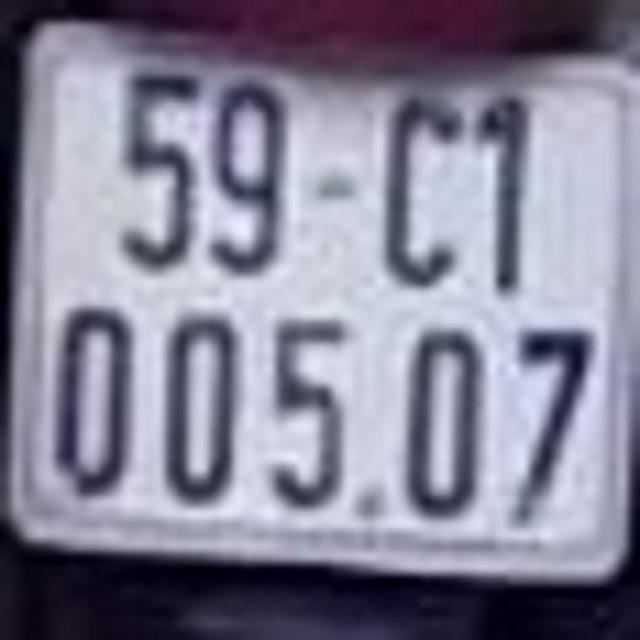0: (402, 320, 486, 520), (53, 304, 135, 500), (164, 308, 238, 508)
1: (470, 88, 540, 292)
5: (112, 64, 200, 276), (271, 310, 345, 508)
7: (508, 315, 600, 536)
9: (212, 70, 286, 278)
C: (378, 85, 465, 292)
